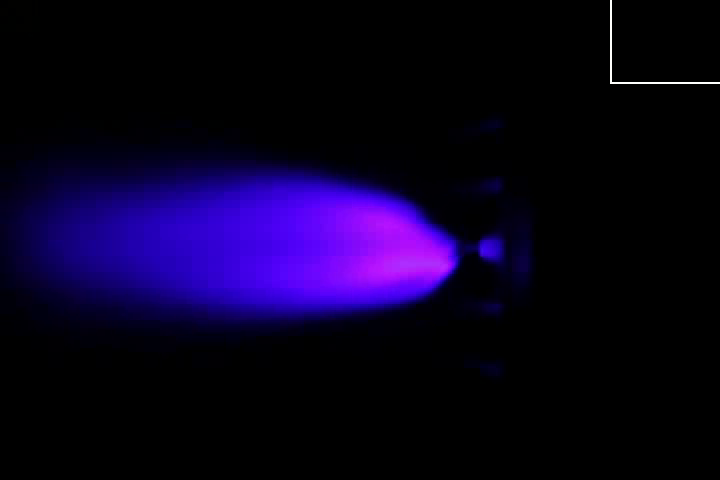burner cap: (475, 233, 510, 268)
unstable: (312, 181, 484, 314)
